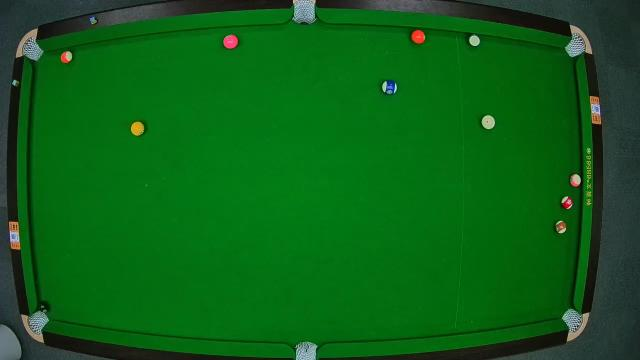bag1: (22, 38, 44, 62)
bag2: (293, 1, 315, 23)
bag3: (566, 34, 586, 57)
bag4: (29, 308, 49, 334)
bag5: (294, 342, 320, 360)
bag6: (562, 310, 582, 332)
ball0: (480, 114, 496, 131)
ball1: (128, 120, 146, 136)
ball10: (381, 79, 399, 95)
ball11: (560, 194, 574, 210)
ball12: (568, 172, 580, 188)
ball13: (60, 50, 74, 63)
ball14: (466, 33, 482, 49)
ball15: (556, 219, 568, 235)
ball4: (221, 34, 239, 50)
ball5: (410, 29, 426, 44)
ball8: (37, 300, 51, 312)
